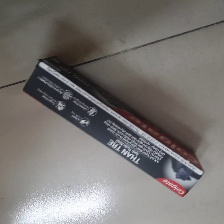Colgate Than: (21, 57, 205, 198)
